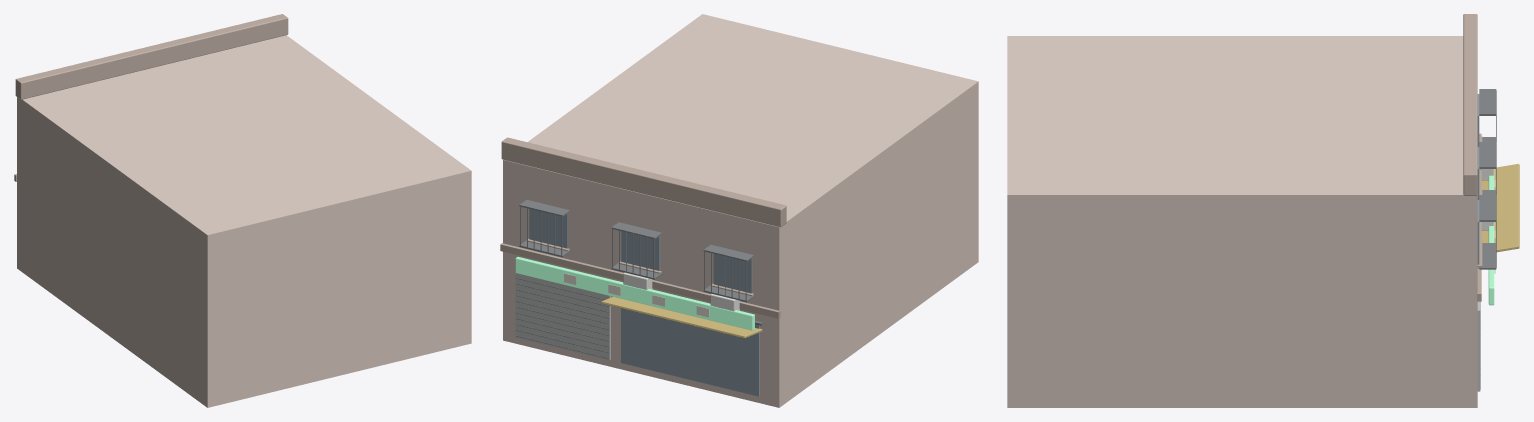
Rendered from block_a.glb.
3 renders of one model, left to right at view 1: azimuth 30°, elevation 25°; view 2: azimuth 150°, elevation 25°; view 3: azimuth 270°, elevation 25°, orthographic. The views are drawn at different scales.
Parts seen in each view (by area): view 1: block_a; view 2: block_a; view 3: block_a.
Boxes of the visible parts, x1,y1,x2,y2 form: block_a: [14, 14, 471, 407]; block_a: [500, 14, 978, 407]; block_a: [1007, 14, 1519, 407].
Size of the model in its own units: 8.1 by 5.5 by 10.9.
